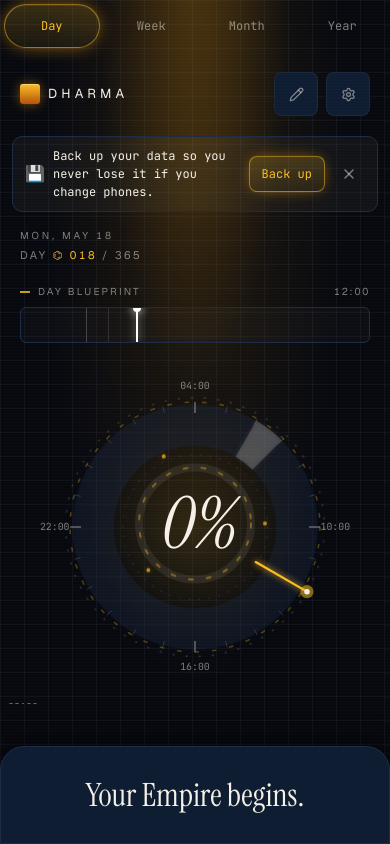
Test: C-m9e-010: AppShell — tap a month in YearView opens MonthView at that month › tapping different months re-seeds MonthView each time (key-based remount)
(page scrolled)
Note: Go to Year, tap March
Click the tab "Year" at (342, 26), box [294,0,389,52]
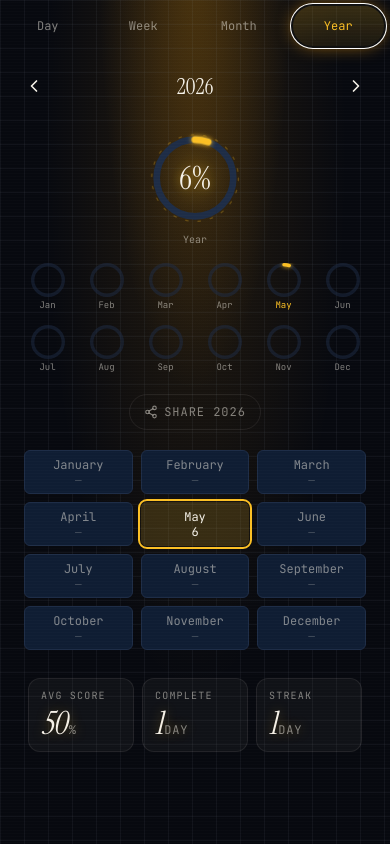
Click the button with aria-label "March 2026" at (312, 472), box [257,450,366,494]
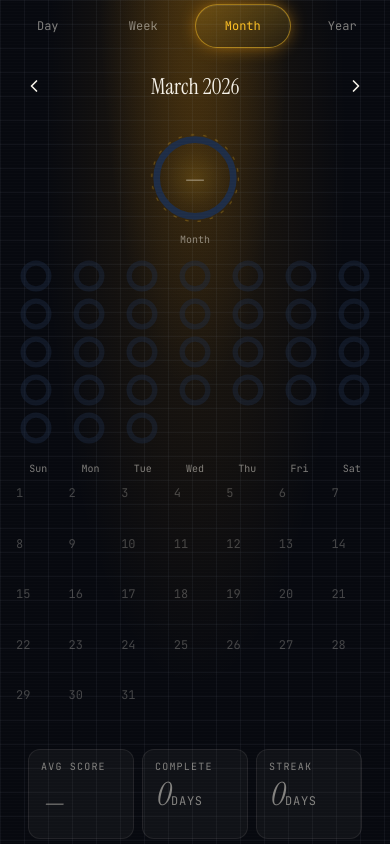
Expected: the heading reads "March 2026", [151,72,239,100]
Note: Go back to Year, tap October
Click the tab "Year" at (342, 26), box [294,0,389,52]
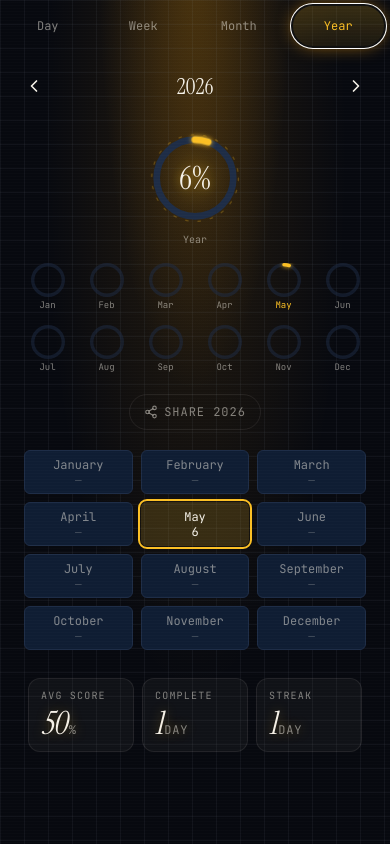
Click the button with aria-label "October 2026" at (78, 628), box [24,606,133,650]
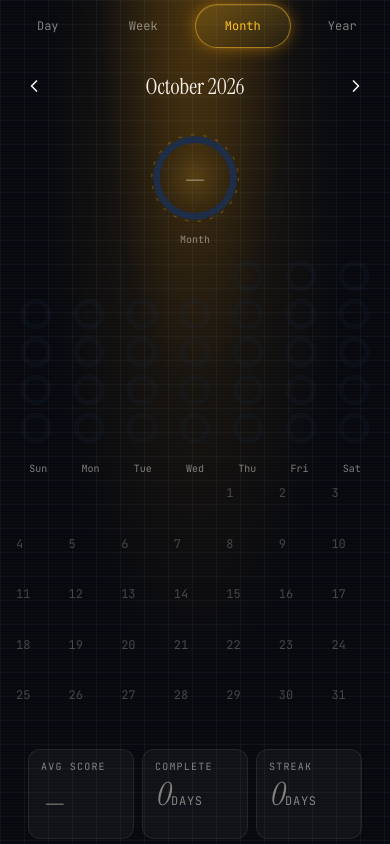
Expected: the heading reads "October 2026", [146,72,244,100]
